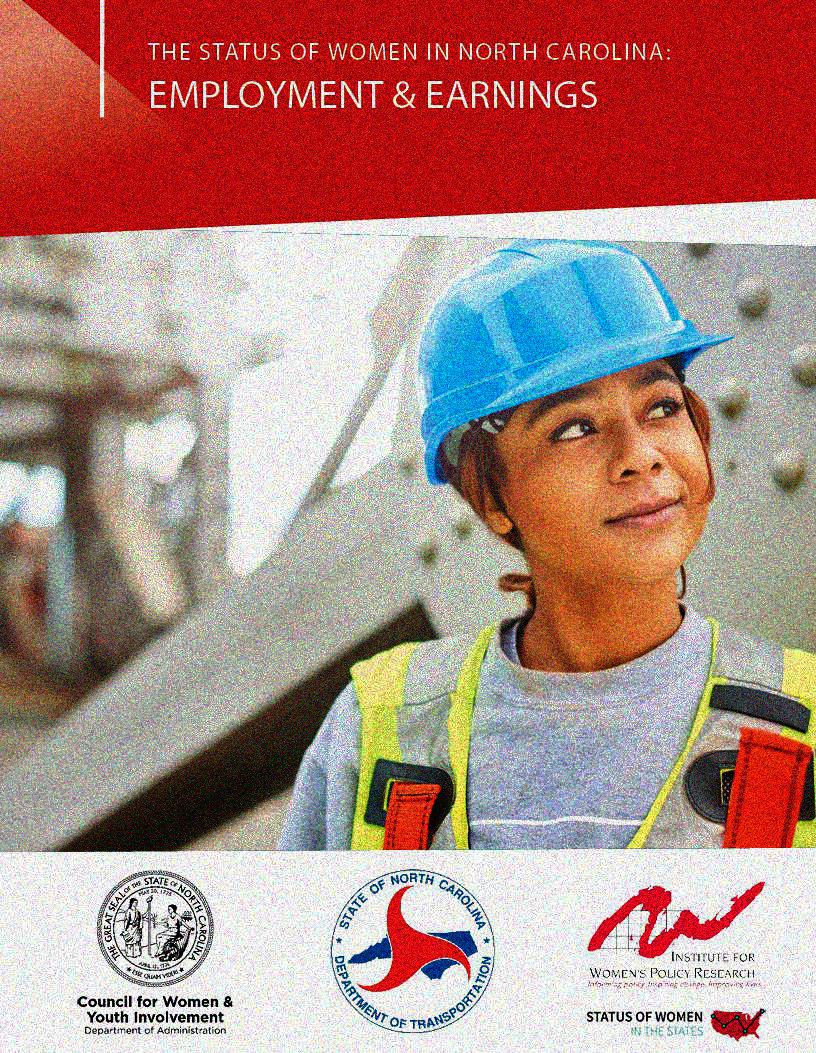helmet: (409, 241, 726, 584)
